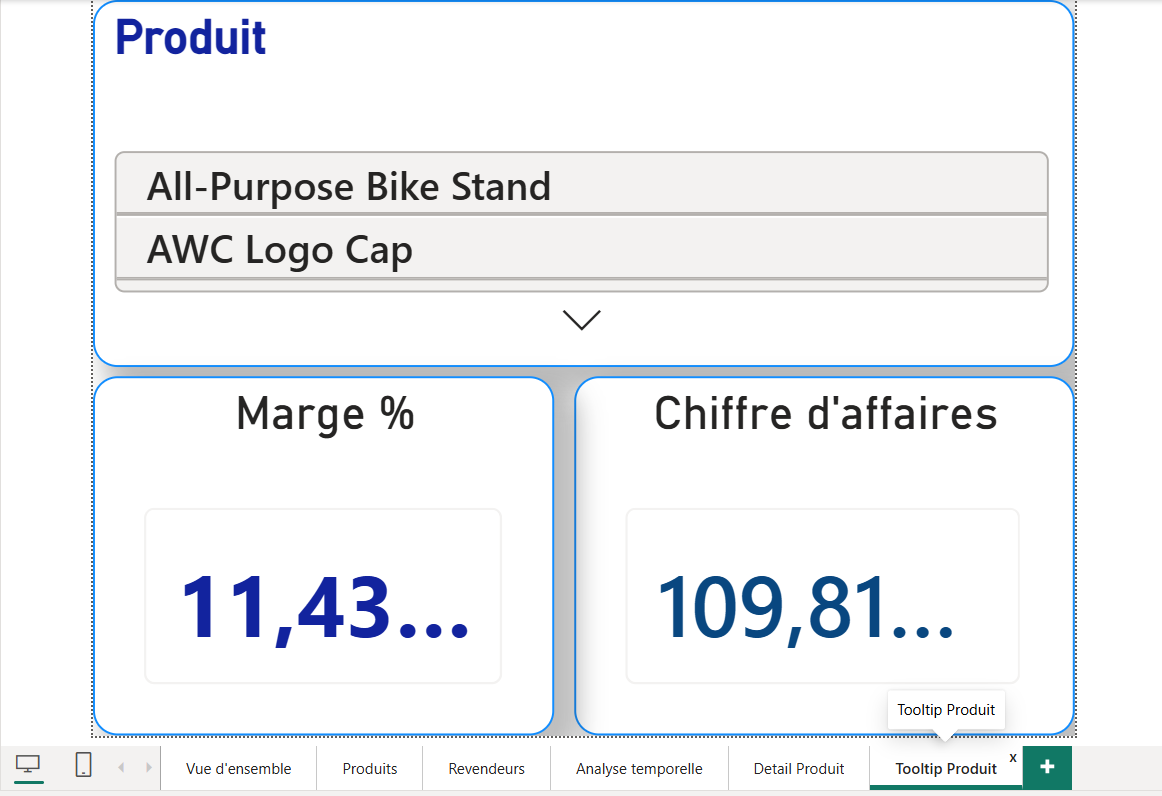

The page's visual inventory and layout, read from the dashboard file:
{"tool":"powerbi","page":{"name":"Tooltip Produit","canvas":[400,300],"ordinal":5},"visuals":[{"type":"cardVisual","title":"Produit","fields":{"Rows":["Product_data.Product"]},"box":[0,0,400,149.8],"z":1},{"type":"cardVisual","title":"Chiffre d''affaires","fields":{"Data":["Mesures.CA Total"]},"box":[196.2,153.4,203.8,146.7],"z":2},{"type":"cardVisual","title":"Marge %","fields":{"Data":["Mesures.Marge %"]},"box":[0,153.4,188,146.7],"z":3}]}

Visuals, with their boxes on the page's 400x300 design canvas (x1, y1, x2, y2). These are canvas units, not pixel positions in the 1162x796 screenshot, which may show the page scaled, cropped or inside an application window:
"Produit" cardVisual: bbox=(0, 0, 400, 150)
"Chiffre d''affaires" cardVisual: bbox=(196, 153, 400, 300)
"Marge %" cardVisual: bbox=(0, 153, 188, 300)
